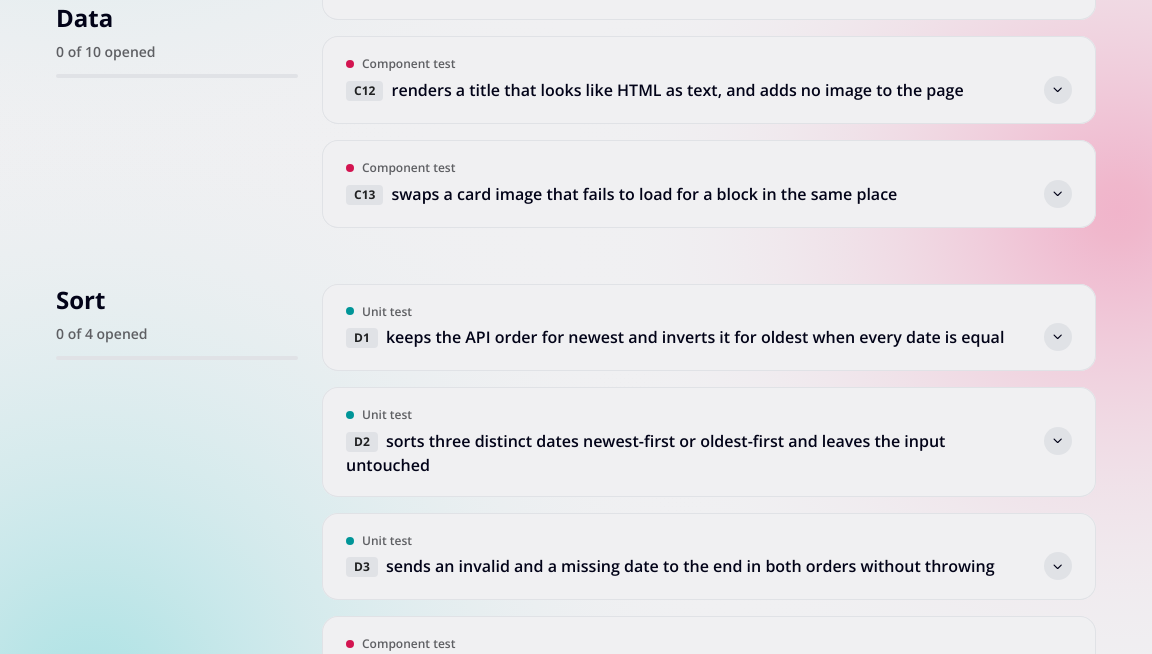
Test: C23 opens a card on click, Enter and space, shows the change and the failure, and counts the cards opened at least once
(page scrolled)
// Click on D1.
Click the button named "D1 keeps the API order for newest and inverts it for oldest when every date is equal".
click(709, 338)  # box [346,325,1072,351]
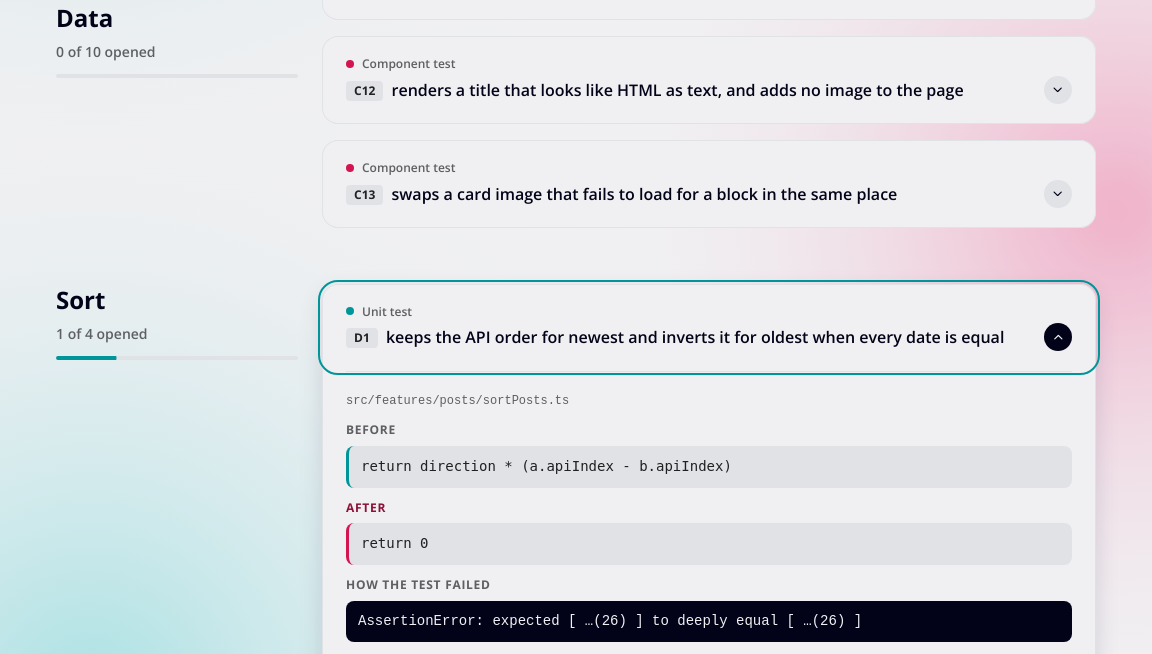
Check: the button named "D1 keeps the API order for newest and inverts it for oldest when every date is equal" is expanded
Check: the text "Before" is shown, box [346,421,396,438]
Check: the text "After" is shown, box [346,499,386,516]
// Closing keeps the card counted.
Click the button named "D1 keeps the API order for newest and inverts it for oldest when every date is equal".
click(709, 338)  # box [346,325,1072,351]
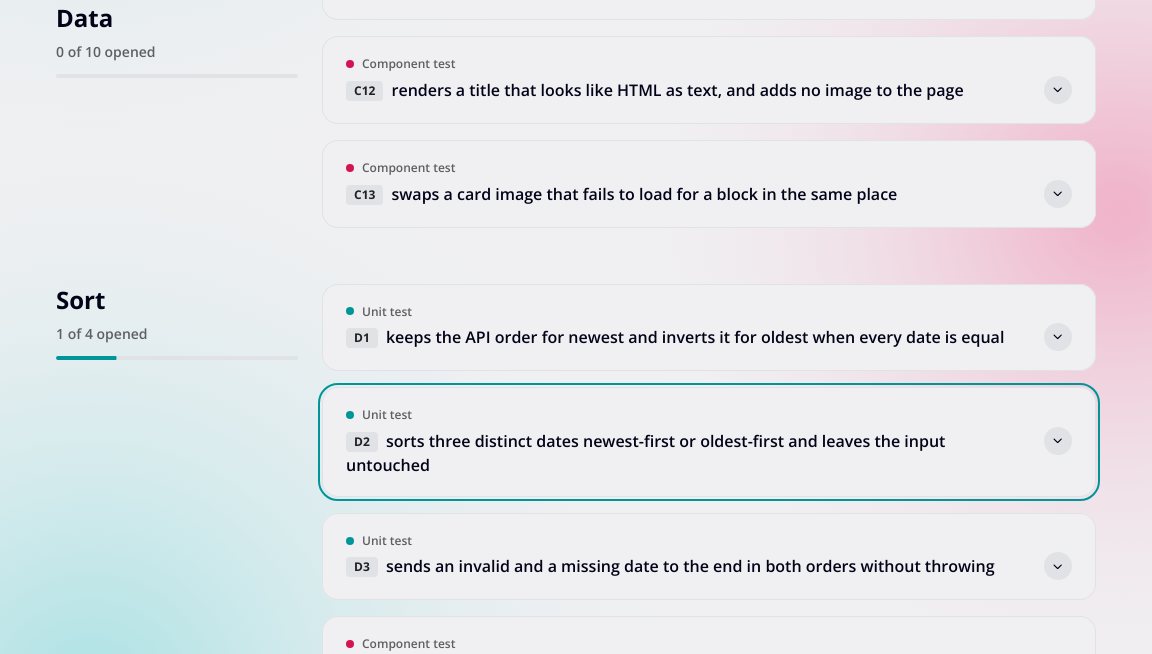
Check: the button named "D1 keeps the API order for newest and inverts it for oldest when every date is equal" is collapsed, box [346,325,1072,351]
Press Enter
(page scrolled)
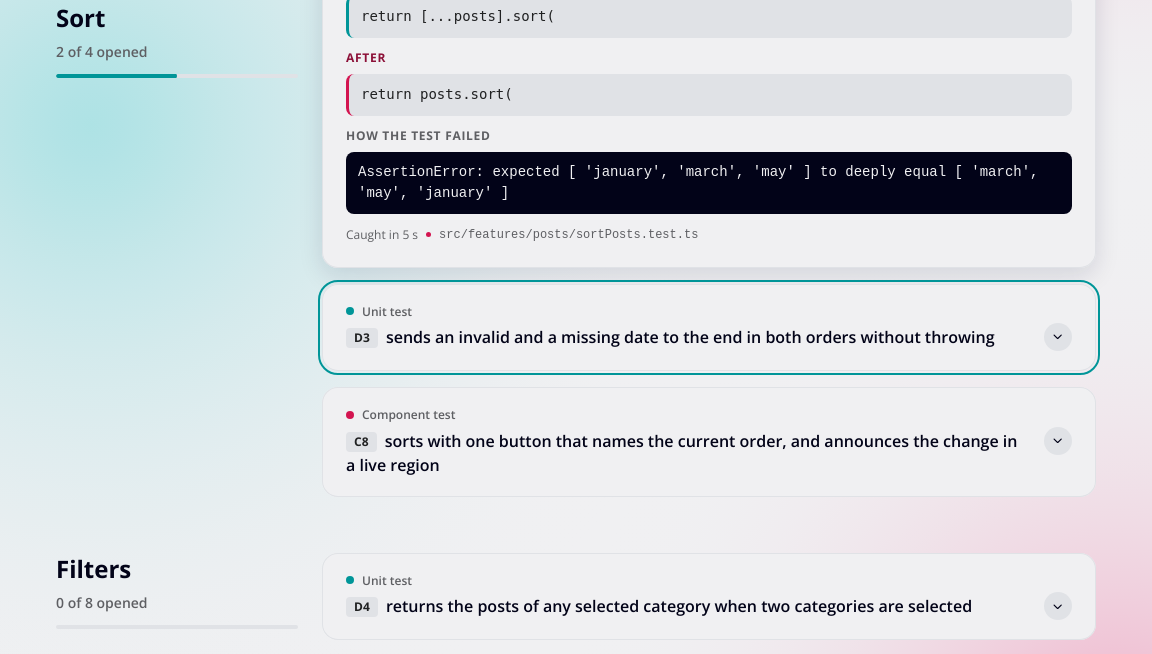
Type keys " "
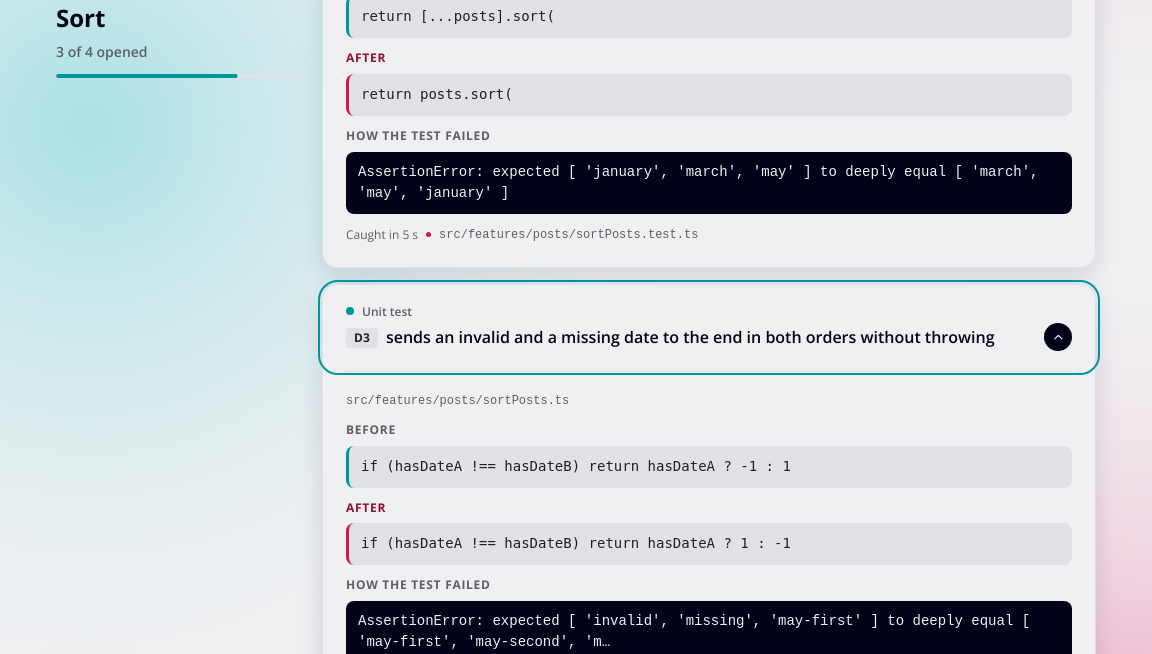
Check: the button named "D3 sends an invalid and a missing date to the end in both orders without throwing" is expanded, box [346,325,1072,351]
